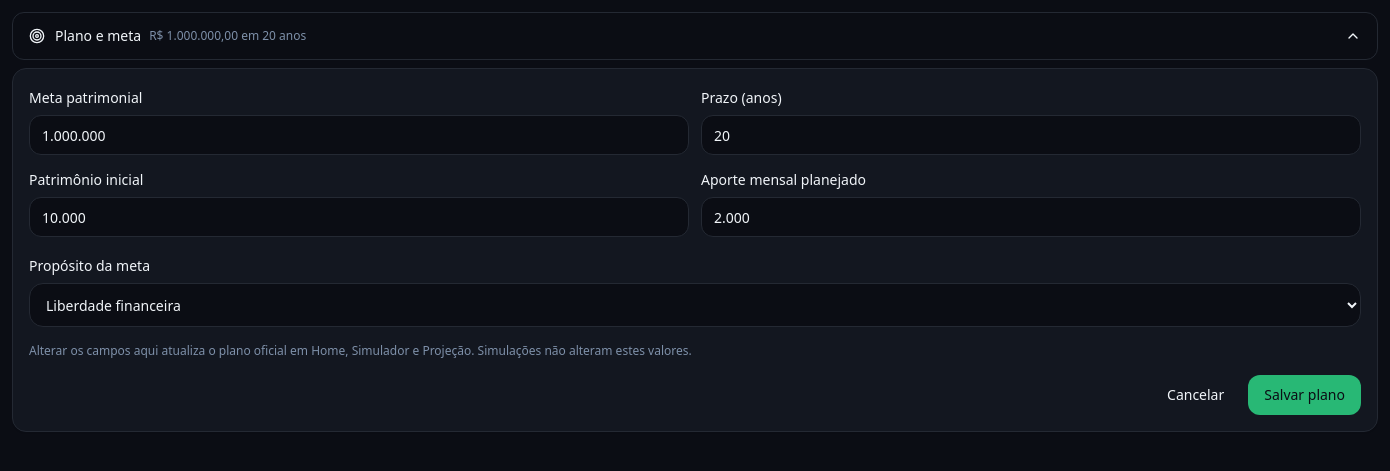
Test: PlanSettingsSection › bloqueia salvar com meta zero e prazo fora do intervalo
The width and height of the screenshot is (1390, 471).
Replace the text in the field labelled "Meta patrimonial" with "0" at point(359, 135), box [29,115,689,155]
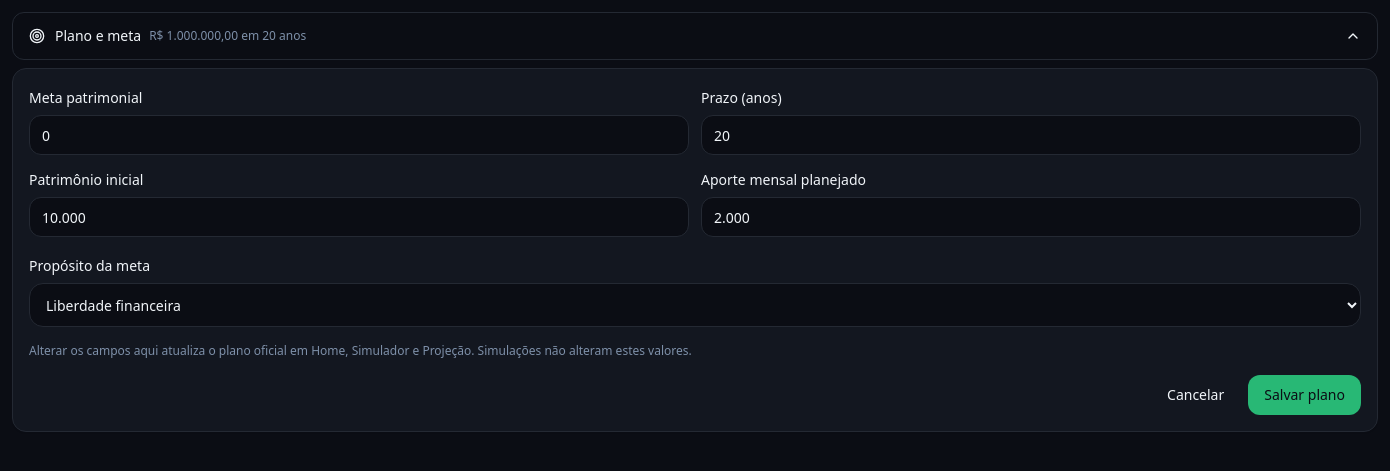
Replace the text in the number field labelled "Prazo (anos)" with "0" at point(1031, 135), box [701,115,1361,155]
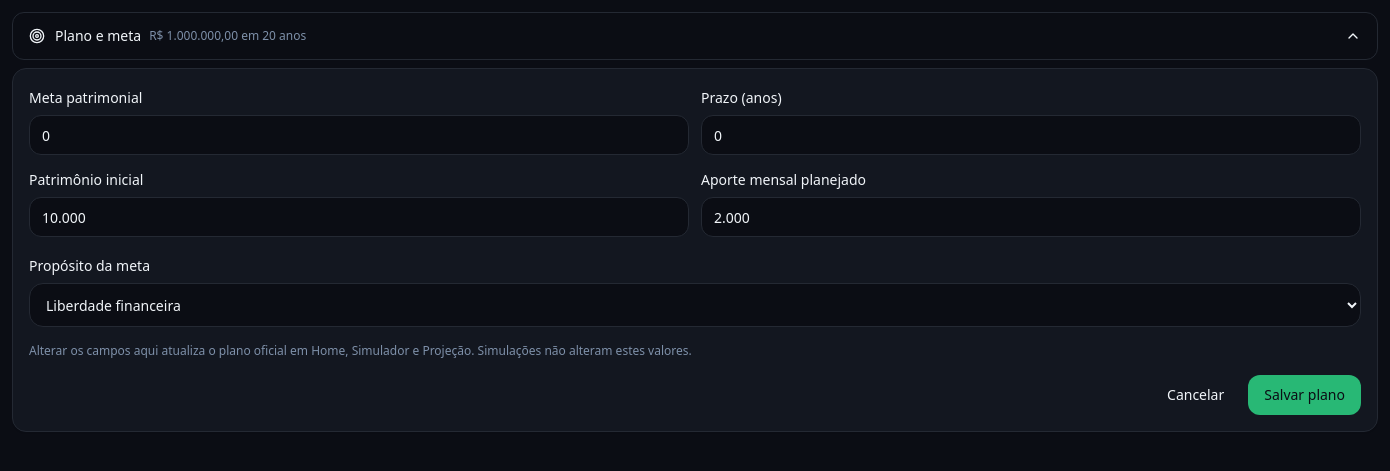
Click the button "Salvar plano" at point(1305, 395), box [1248,375,1361,415]
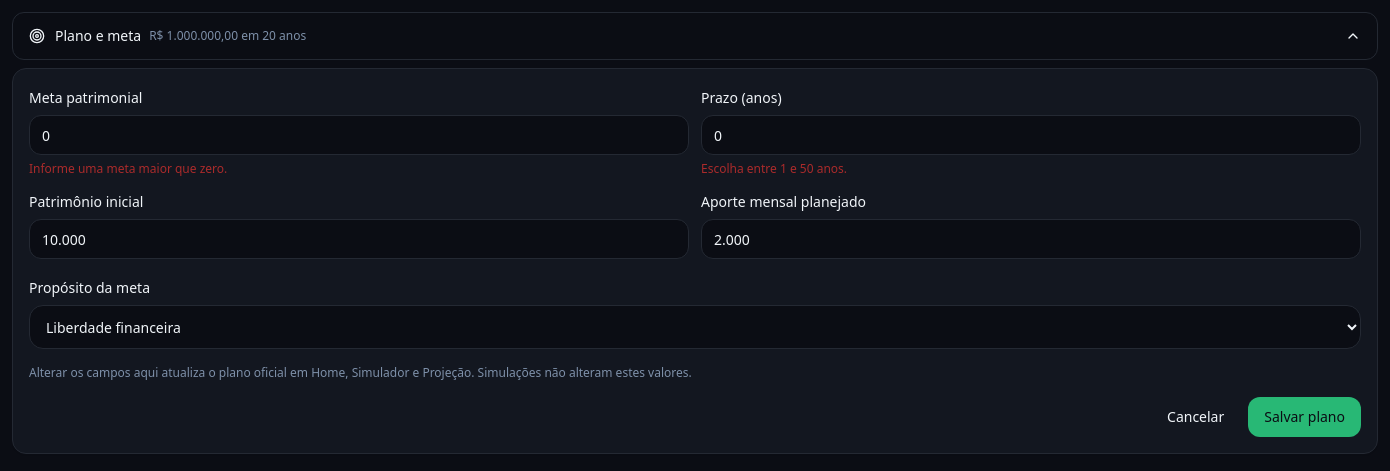
Now the text "Informe uma meta maior que zero." is shown, box [29,160,227,177]
Now the text "Escolha entre 1 e 50 anos." is shown, box [701,160,847,177]
